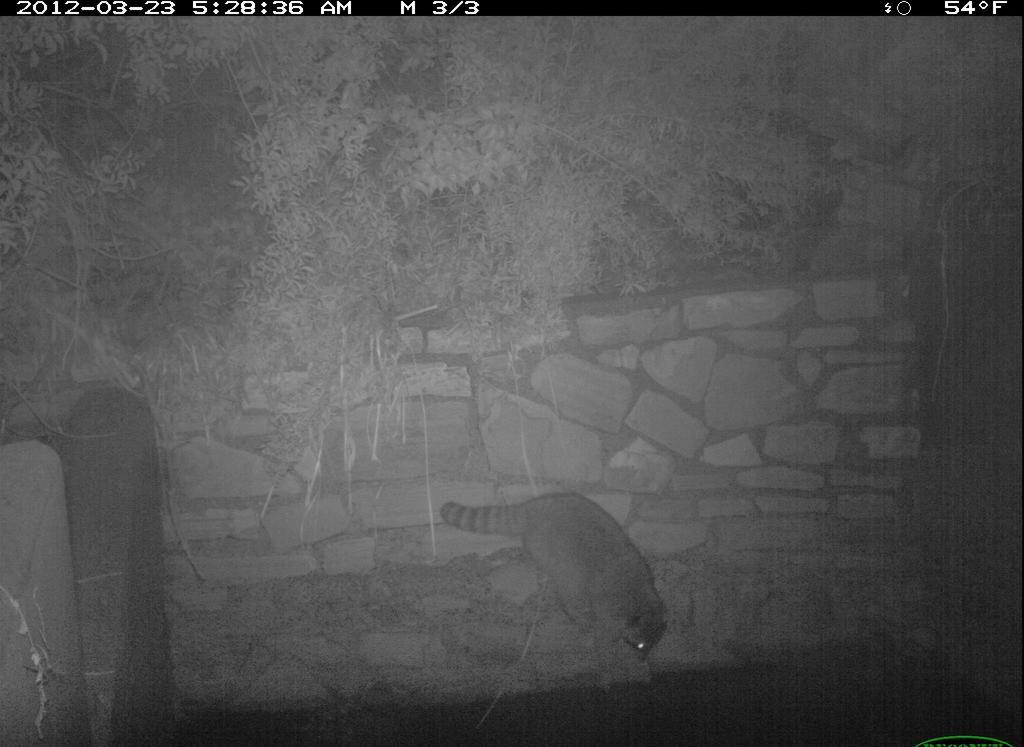raccoon: (436, 486, 679, 670)
